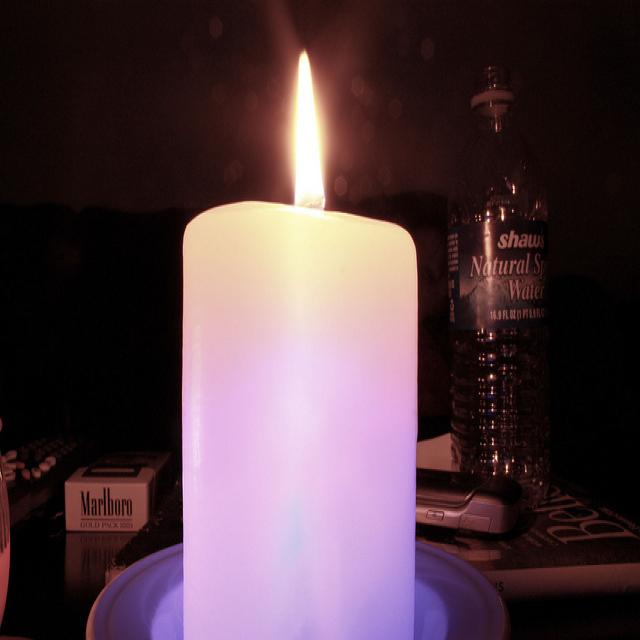Bottle: (442, 41, 557, 501)
